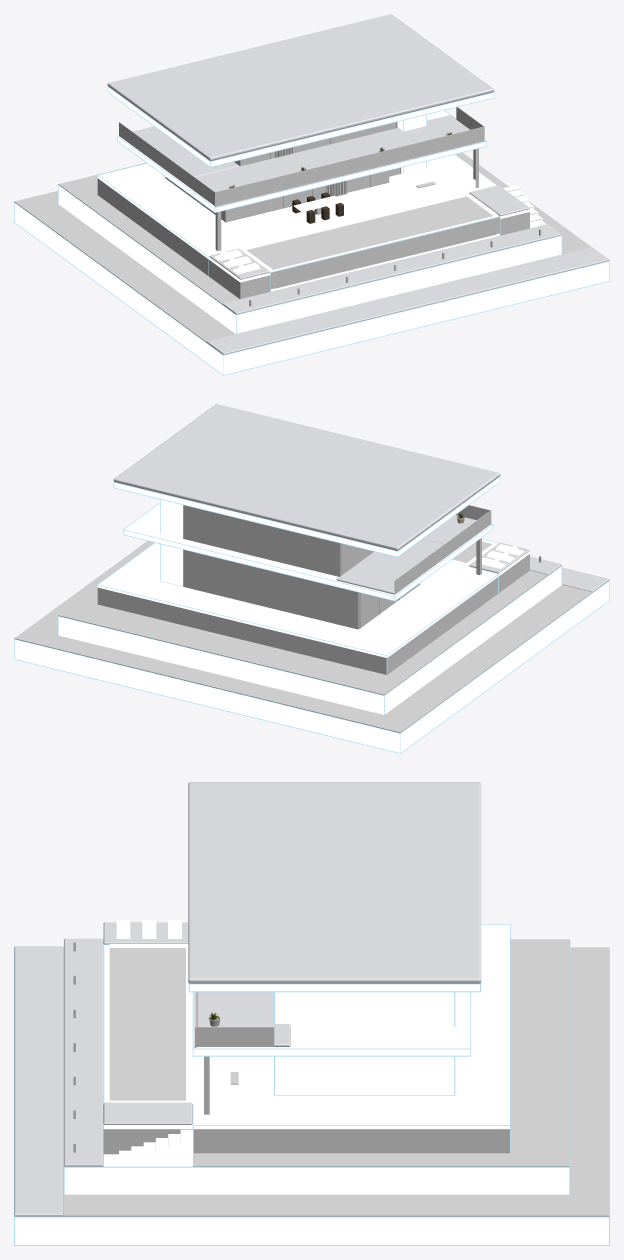
Rendered from villa.glb.
3 views of the same model, one above another, from view 1: azimuth 30°, elevation 25°; view 2: azimuth 150°, elevation 25°; view 3: azimuth 270°, elevation 25° (orthographic). The views are drawn at different scales.
Visible parts, largest first — view 1: Snow cap / roof, Terrace wall / lower, Deck, Terrace wall / upper, Snow cap / lower terrace wall, Pool water, Planting bed 2, Snow cap / balcony, Snow cap / upper terrace wall, Balustrade / front, Pool overflow sheet, Planting bed 6 (+24 smaller); view 2: Snow cap / roof, Terrace wall / lower, Deck, Terrace wall / upper, Plinth, Planting bed 5, GF / back wall, Planting bed 1, Planting bed 2, FF / back wall, Slab / second floor, Planting bed 6 (+16 smaller); view 3: Snow cap / roof, Deck, Terrace wall / lower, Terrace wall / upper, Planting bed 5, Snow cap / lower terrace wall, Cladding wall, Pool water, Planting bed 3, Planting bed 1, Snow cap / upper terrace wall, Plinth (+16 smaller).
Part boxes in pixels (left/top/right/bottom): Snow cap / roof: left=107, top=14, right=494, bottom=160; Terrace wall / lower: left=14, top=203, right=609, bottom=374; Deck: left=97, top=154, right=496, bottom=258; Terrace wall / upper: left=58, top=186, right=561, bottom=333; Snow cap / lower terrace wall: left=206, top=247, right=608, bottom=354; Pool water: left=246, top=196, right=495, bottom=288; Planting bed 2: left=28, top=204, right=234, bottom=341; Snow cap / balcony: left=195, top=115, right=469, bottom=191; Snow cap / upper terrace wall: left=223, top=224, right=561, bottom=313; Balustrade / front: left=215, top=126, right=484, bottom=205; Pool overflow sheet: left=270, top=217, right=499, bottom=288; Planting bed 6: left=79, top=195, right=239, bottom=304; Snow cap / roof: left=113, top=404, right=500, bottom=550; Terrace wall / lower: left=14, top=581, right=609, bottom=752; Deck: left=97, top=543, right=498, bottom=657; Terrace wall / upper: left=58, top=566, right=561, bottom=714; Plinth: left=97, top=577, right=498, bottom=674; Planting bed 5: left=58, top=600, right=404, bottom=695; GF / back wall: left=183, top=550, right=359, bottom=629; Planting bed 1: left=14, top=628, right=414, bottom=732; Planting bed 2: left=385, top=585, right=592, bottom=722; FF / back wall: left=183, top=505, right=341, bottom=576; Slab / second floor: left=123, top=503, right=492, bottom=600; Planting bed 6: left=387, top=570, right=547, bottom=679; Snow cap / roof: left=188, top=782, right=481, bottom=983; Deck: left=193, top=924, right=509, bottom=1128; Terrace wall / lower: left=15, top=1217, right=608, bottom=1244; Terrace wall / upper: left=64, top=1154, right=569, bottom=1194; Planting bed 5: left=510, top=939, right=569, bottom=1166; Snow cap / lower terrace wall: left=14, top=946, right=63, bottom=1215; Cladding wall: left=275, top=992, right=454, bottom=1094; Pool water: left=109, top=948, right=185, bottom=1100; Planting bed 3: left=64, top=1194, right=569, bottom=1216; Planting bed 1: left=570, top=947, right=609, bottom=1216; Snow cap / upper terrace wall: left=64, top=938, right=103, bottom=1165; Plinth: left=193, top=1129, right=509, bottom=1153.
Size of the model in its own units: 32.03 by 12.75 by 30.03.
Materials: 33 (8 with a texture image).
